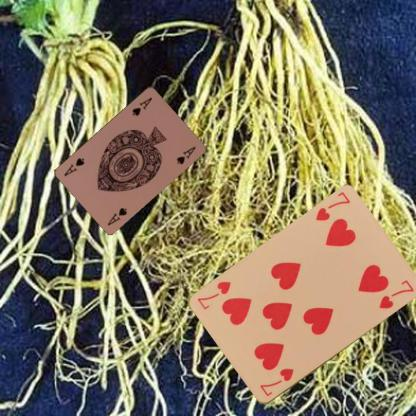7h: (313, 190, 351, 223), (257, 366, 295, 398)
As: (130, 94, 153, 117), (105, 204, 128, 226)
